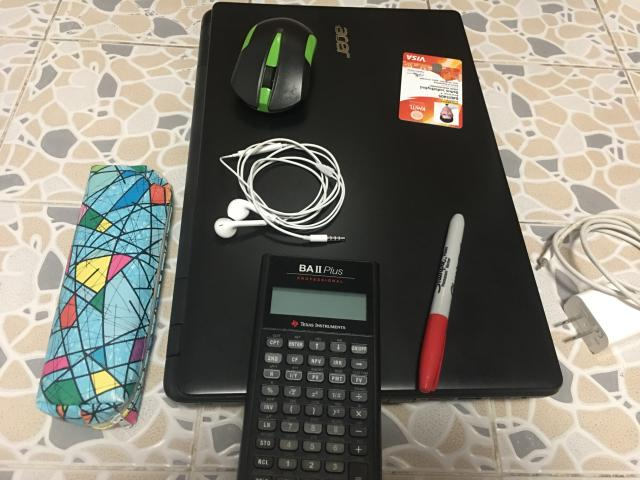Mouse: (231, 19, 317, 115)
Pen: (416, 213, 466, 397)
wire: (213, 136, 348, 243), (540, 212, 640, 354)
